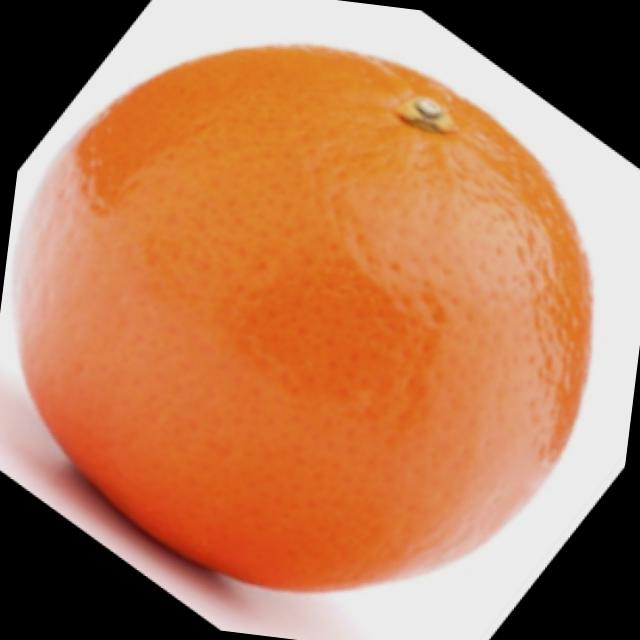orange: (0, 24, 631, 640)
